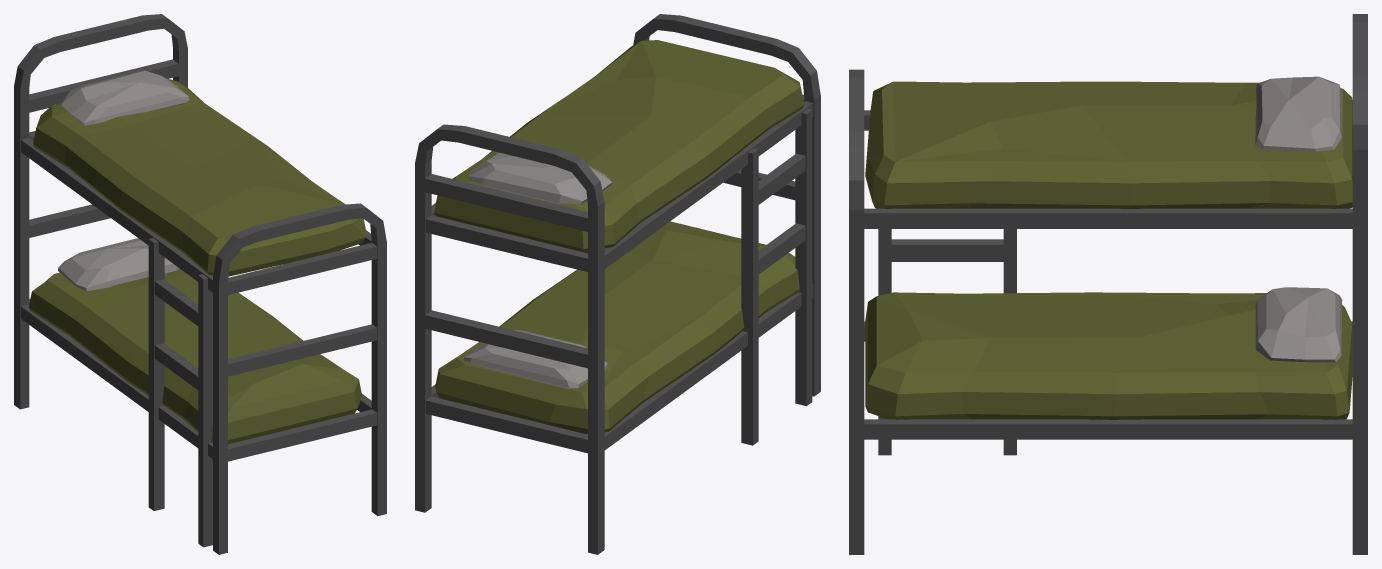
File: SM_Prop_Bed_Military_Bunk_01.glb
3 renders of one model, left to right at view 1: azimuth 30°, elevation 25°; view 2: azimuth 150°, elevation 25°; view 3: azimuth 270°, elevation 25°, orthographic. The views are drawn at different scales.
Parts seen in each view (by area): view 1: SM_Prop_Bed_Military_Bunk_01; view 2: SM_Prop_Bed_Military_Bunk_01; view 3: SM_Prop_Bed_Military_Bunk_01.
Part boxes in pixels (left/top/right/bottom): SM_Prop_Bed_Military_Bunk_01: left=14, top=14, right=386, bottom=554; SM_Prop_Bed_Military_Bunk_01: left=415, top=14, right=820, bottom=554; SM_Prop_Bed_Military_Bunk_01: left=849, top=14, right=1367, bottom=554.
Size of the model in its own units: 1.08 by 2.16 by 2.24.
Materials: 1 (1 with a texture image).
